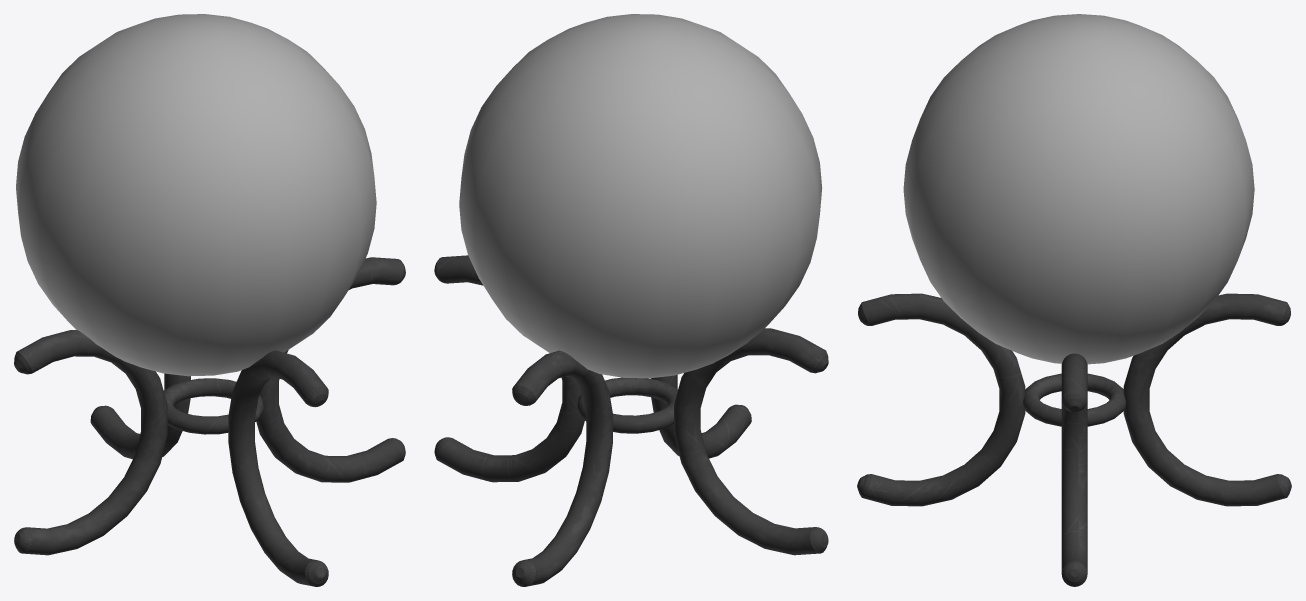
The model's file is Crystal Ball.fbx.
3 views of the same model, side by side, from view 1: azimuth 30°, elevation 25°; view 2: azimuth 150°, elevation 25°; view 3: azimuth 270°, elevation 25° (orthographic). The views are drawn at different scales.
Visible parts, largest first — view 1: Crystal_Ball:Ball, Crystal_Ball:Ball_Stand; view 2: Crystal_Ball:Ball, Crystal_Ball:Ball_Stand; view 3: Crystal_Ball:Ball, Crystal_Ball:Ball_Stand.
Boxes of the visible parts, box(x1,y1,x2,y2) form: Crystal_Ball:Ball: box(16, 14, 376, 376); Crystal_Ball:Ball_Stand: box(14, 257, 405, 586); Crystal_Ball:Ball: box(459, 14, 822, 378); Crystal_Ball:Ball_Stand: box(434, 255, 828, 586); Crystal_Ball:Ball: box(903, 14, 1254, 364); Crystal_Ball:Ball_Stand: box(857, 293, 1291, 586).
Size of the model in its own units: 0.2385 by 0.2843 by 0.2385.
